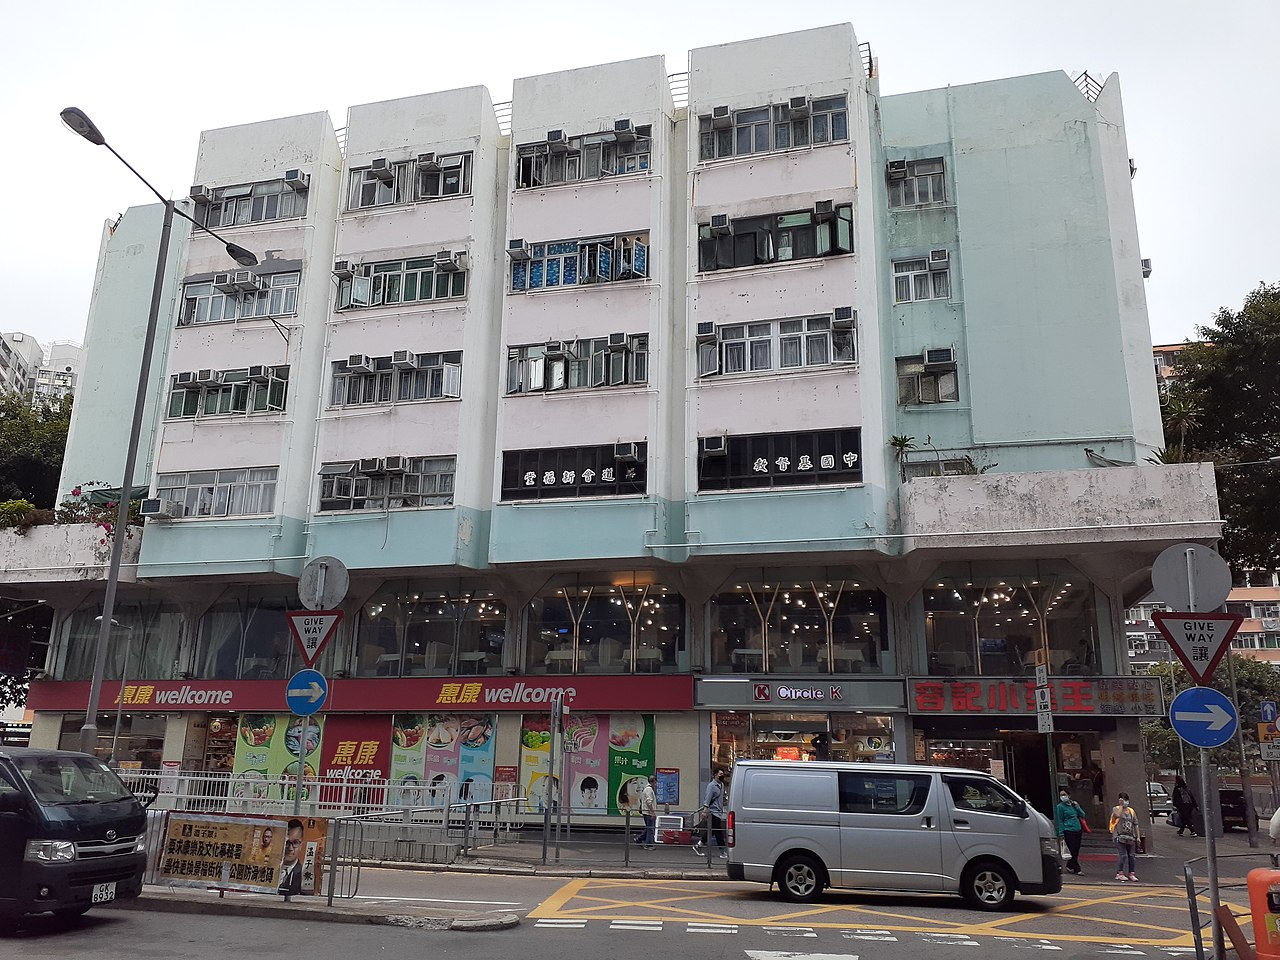End Of No Stopping: (1033, 646, 1048, 686)
Give Way: (1155, 610, 1252, 683), (287, 615, 347, 658)
One Way Traffic: (1261, 698, 1277, 723)
Start Of No Stopping: (1035, 689, 1055, 734)
Turn Right: (1172, 683, 1244, 747), (284, 672, 324, 705)
